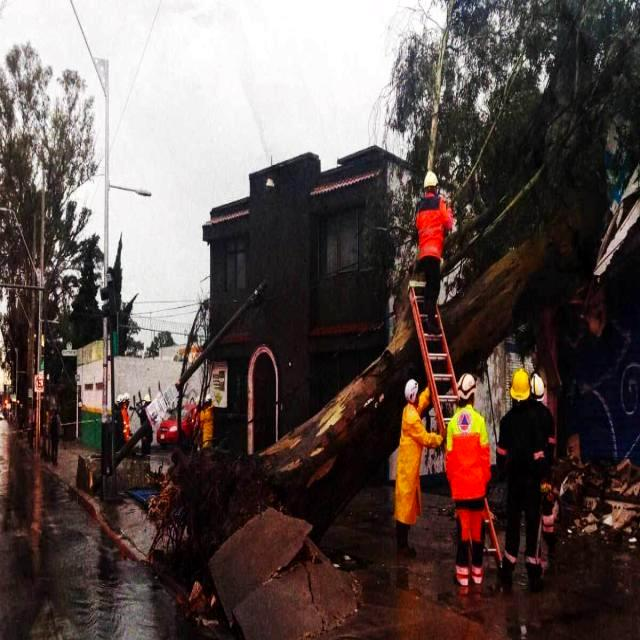Broken Pole: (98, 280, 268, 486)
